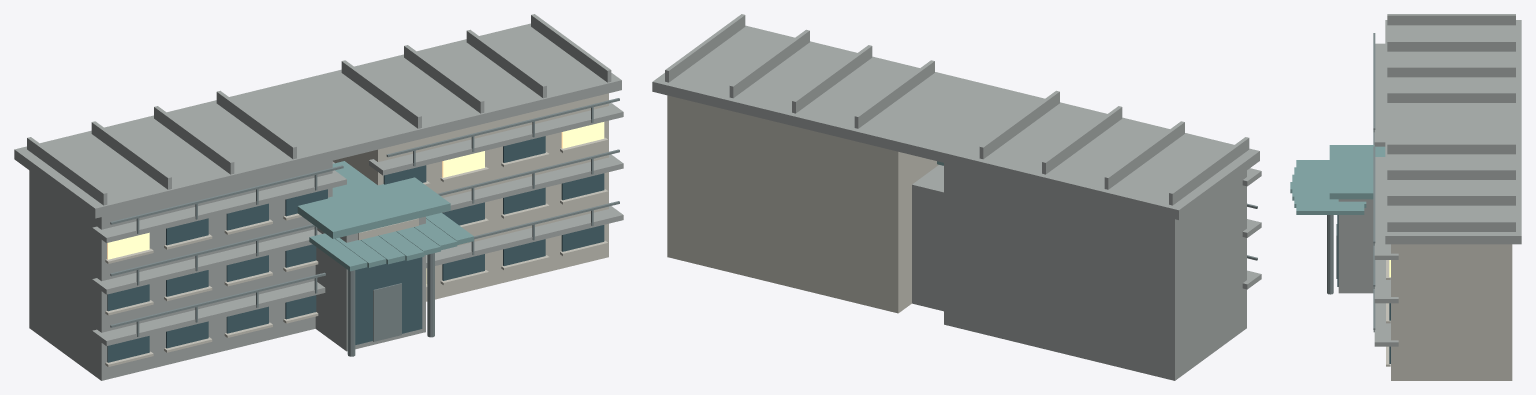
The model's file is sanatorium-main.glb.
The picture shows the model from 3 angles, left to right: view 1: azimuth 30°, elevation 25°; view 2: azimuth 150°, elevation 25°; view 3: azimuth 270°, elevation 25°; orthographic projection. The views are drawn at different scales.
Parts seen in each view (by area): view 1: Sanatorium_Main_Sanatorium_Weathered_Concrete, Sanatorium_Main_Sanatorium_Cream_Plaster, Sanatorium_Main_Sanatorium_Muted_Glass, Sanatorium_Main_Sanatorium_Faded_Aqua, Sanatorium_Main_Sanatorium_Painted_Metal, Sanatorium_Main_Sanatorium_Warm_Interior; view 2: Sanatorium_Main_Sanatorium_Weathered_Concrete, Sanatorium_Main_Sanatorium_Cream_Plaster; view 3: Sanatorium_Main_Sanatorium_Weathered_Concrete, Sanatorium_Main_Sanatorium_Cream_Plaster, Sanatorium_Main_Sanatorium_Faded_Aqua, Sanatorium_Main_Sanatorium_Painted_Metal, Sanatorium_Main_Sanatorium_Muted_Glass.
Boxes of the visible parts, x1,y1,x2,y2 form: Sanatorium_Main_Sanatorium_Weathered_Concrete: (14,14,623,380); Sanatorium_Main_Sanatorium_Cream_Plaster: (105,93,608,366); Sanatorium_Main_Sanatorium_Muted_Glass: (107,136,604,362); Sanatorium_Main_Sanatorium_Faded_Aqua: (297,161,473,271); Sanatorium_Main_Sanatorium_Painted_Metal: (110,98,619,356); Sanatorium_Main_Sanatorium_Warm_Interior: (107,122,604,284); Sanatorium_Main_Sanatorium_Weathered_Concrete: (652,14,1261,380); Sanatorium_Main_Sanatorium_Cream_Plaster: (667,95,938,313); Sanatorium_Main_Sanatorium_Weathered_Concrete: (1338,14,1521,346); Sanatorium_Main_Sanatorium_Cream_Plaster: (1386,244,1512,380); Sanatorium_Main_Sanatorium_Faded_Aqua: (1290,145,1385,214); Sanatorium_Main_Sanatorium_Painted_Metal: (1327,33,1375,332); Sanatorium_Main_Sanatorium_Muted_Glass: (1337,215,1390,363).
Bounding box in the file's own units: 13.9 × 4.76 × 6.28.
